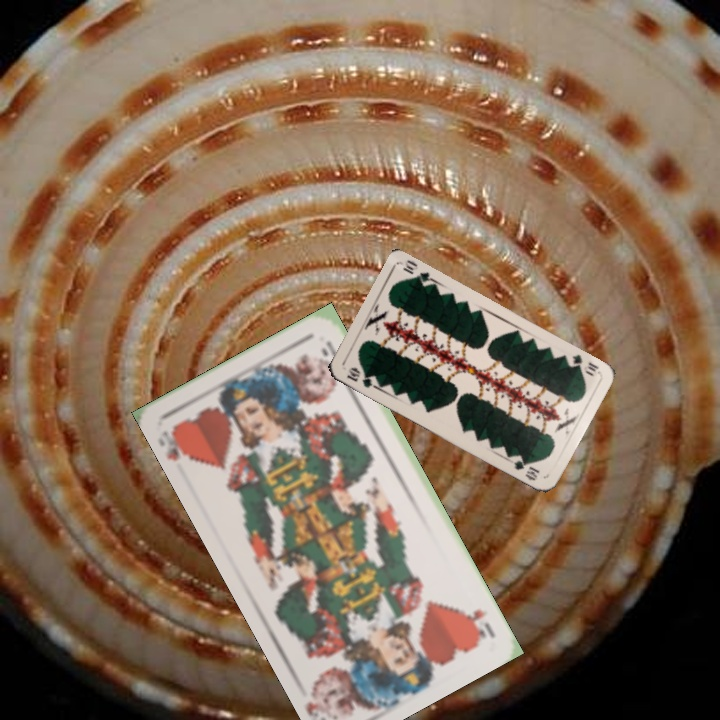G10: (343, 363, 378, 391), (568, 350, 602, 376)
HO: (157, 422, 198, 467), (463, 605, 498, 641)
